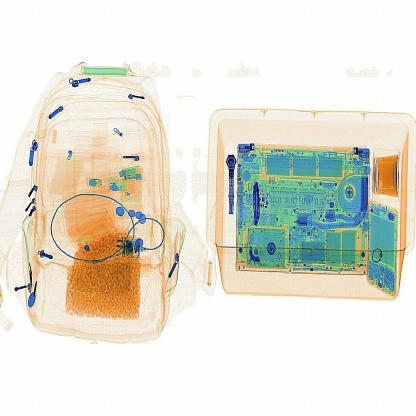knife: (244, 172, 271, 240)
